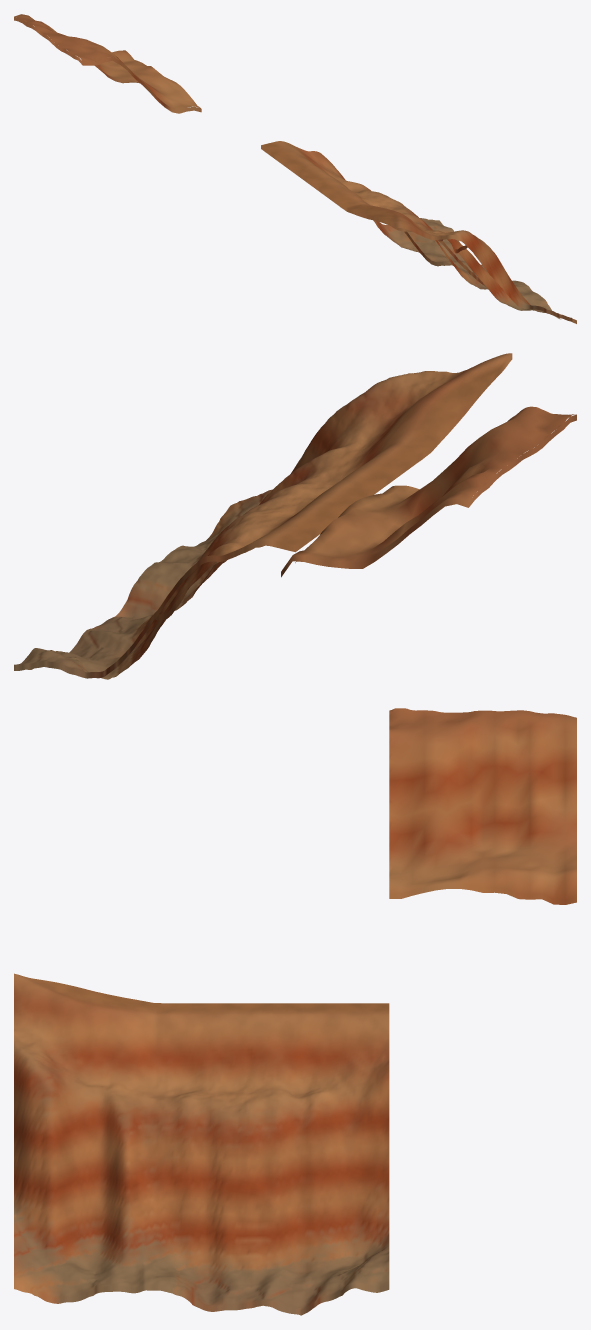
File: terrain-016.glb
3 renders of one model, top to bottom at view 1: azimuth 30°, elevation 25°; view 2: azimuth 150°, elevation 25°; view 3: azimuth 270°, elevation 25°, orthographic. The views are drawn at different scales.
Visible parts, largest first — view 1: terrain-016; view 2: terrain-016; view 3: terrain-016.
Boxes of the visible parts, bbox=[...] form: terrain-016: bbox=[14, 14, 576, 323]; terrain-016: bbox=[14, 353, 576, 679]; terrain-016: bbox=[14, 708, 576, 1315].
Size of the model in its own units: 384 by 278 by 384.
